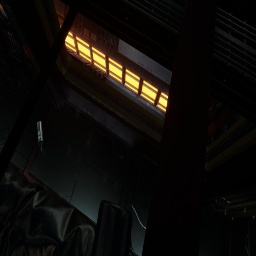0: (37, 121, 44, 152)
FireAlarm ,: (23, 45, 34, 60)
NitrogenTank ,: (91, 200, 133, 256)
